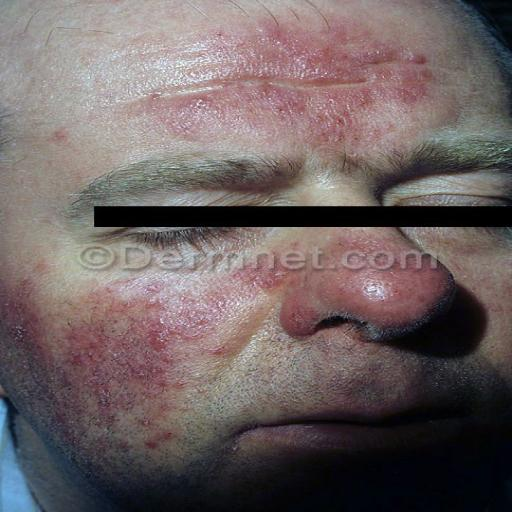Skin_Lesion: (346, 247, 424, 312), (68, 344, 124, 410), (0, 276, 40, 361), (151, 80, 208, 130), (364, 38, 420, 88), (258, 12, 301, 64), (98, 278, 138, 332), (324, 103, 370, 149), (252, 80, 308, 116), (128, 352, 176, 392), (239, 257, 284, 297), (183, 302, 206, 344), (146, 314, 172, 351), (141, 275, 171, 307), (50, 128, 69, 148), (410, 46, 428, 65), (158, 425, 176, 442), (149, 431, 162, 450), (34, 256, 47, 274)
